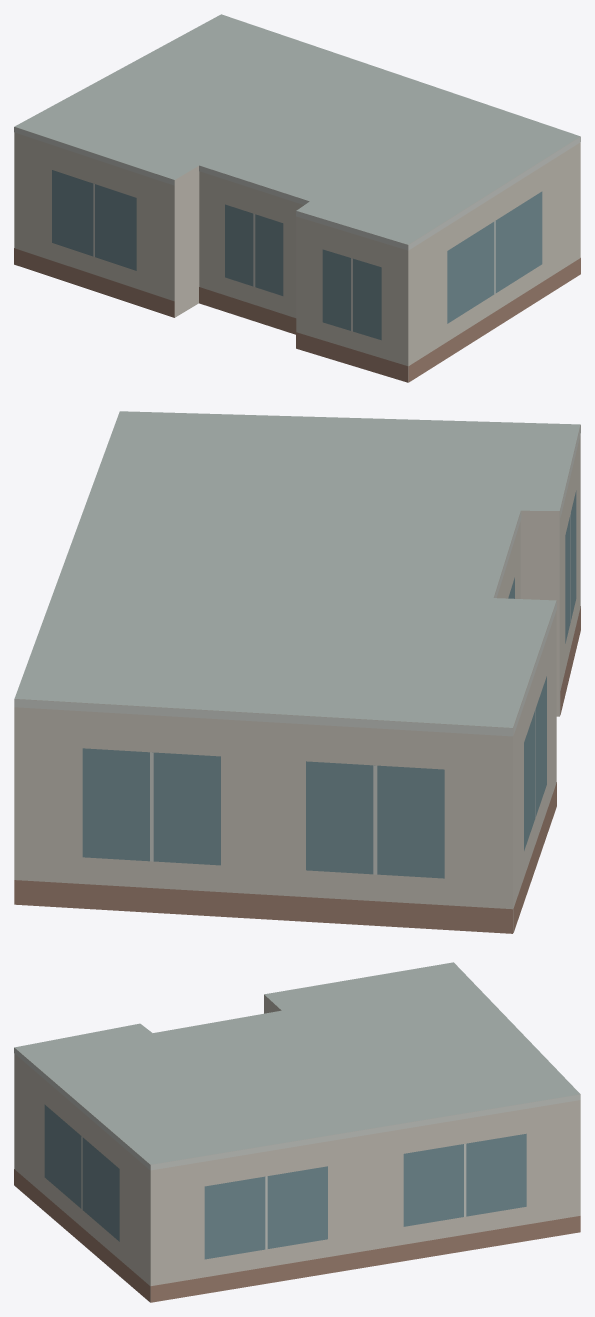
Rendered from survey-upis-32784425.glb.
3 renders of one model, top to bottom at view 1: azimuth 30°, elevation 25°; view 2: azimuth 150°, elevation 25°; view 3: azimuth 270°, elevation 25°, orthographic. The views are drawn at different scales.
Visible parts, largest first — view 1: survey-upis-32784425.tmp; view 2: survey-upis-32784425.tmp; view 3: survey-upis-32784425.tmp.
Part boxes in pixels (bbox=[...]): survey-upis-32784425.tmp: bbox=[14, 14, 580, 382]; survey-upis-32784425.tmp: bbox=[14, 411, 580, 933]; survey-upis-32784425.tmp: bbox=[14, 962, 580, 1302].
Bounding box in the file's own units: 9.62 × 3.05 × 11.37.
